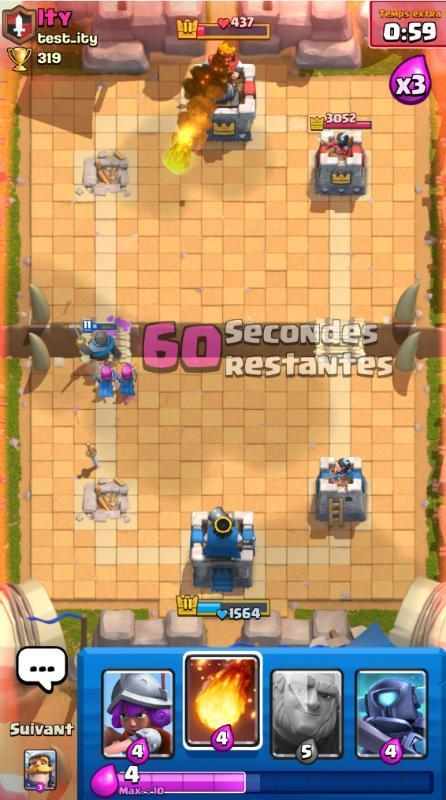enemy_fireball: (160, 63, 229, 174)
player_archers: (91, 358, 117, 401), (115, 359, 141, 402)
player_knight: (71, 317, 131, 367)
